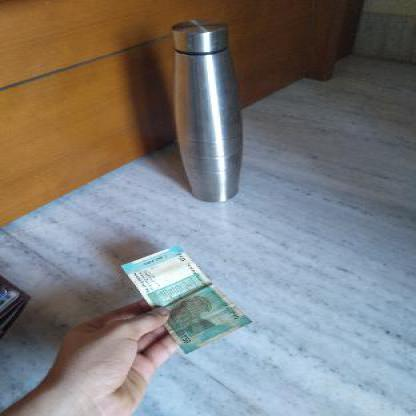New50Back: (122, 246, 251, 354)
